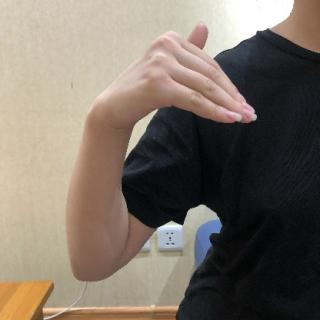KHAA: (82, 19, 259, 148)
